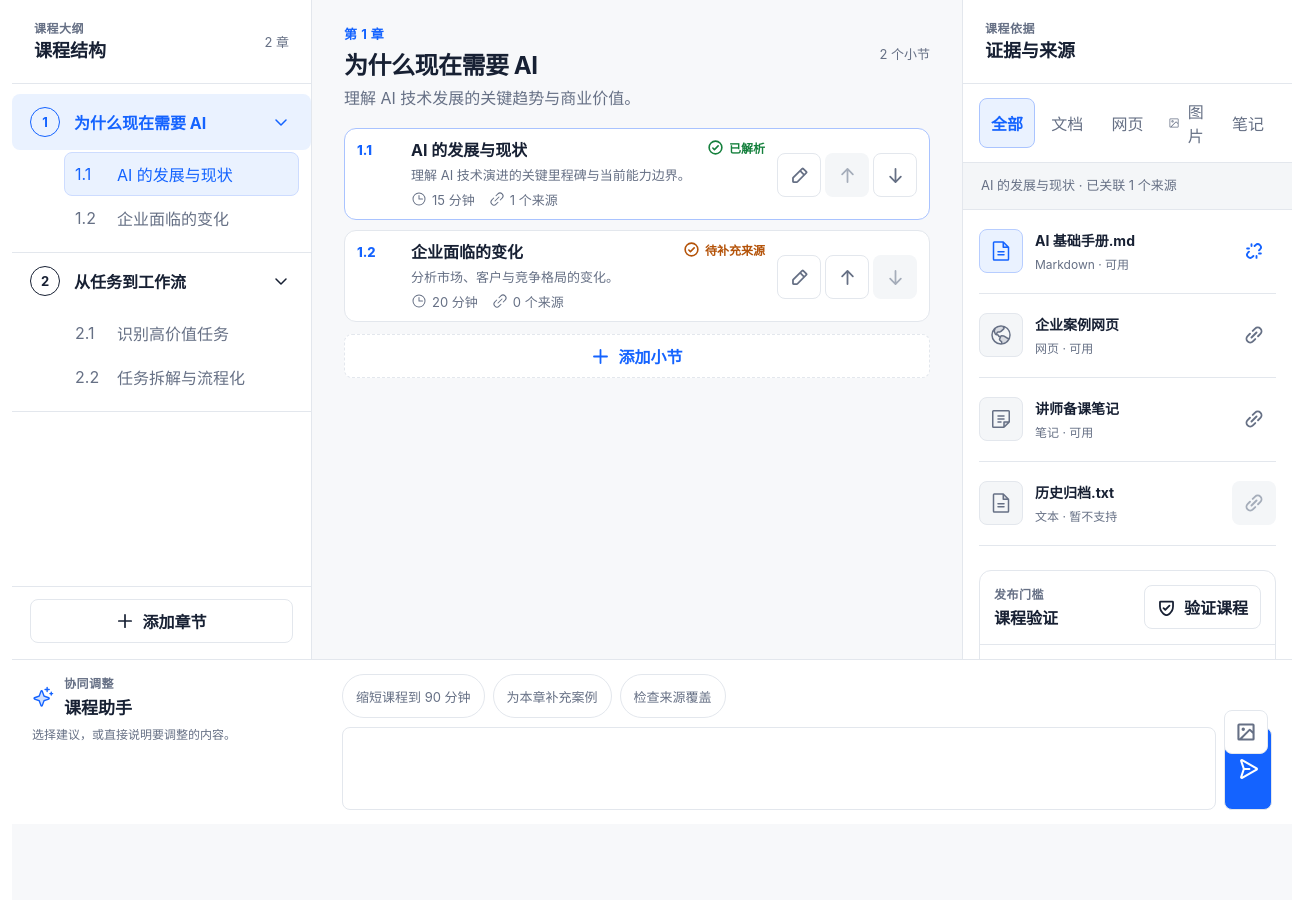
轻量课程编辑器 › selects the first lesson of another chapter and updates source context
Step 1. Click the button with aria-label "第 2 章 从任务到工作流" → x=162, y=281, box x1=12 y1=253 x2=311 y2=309
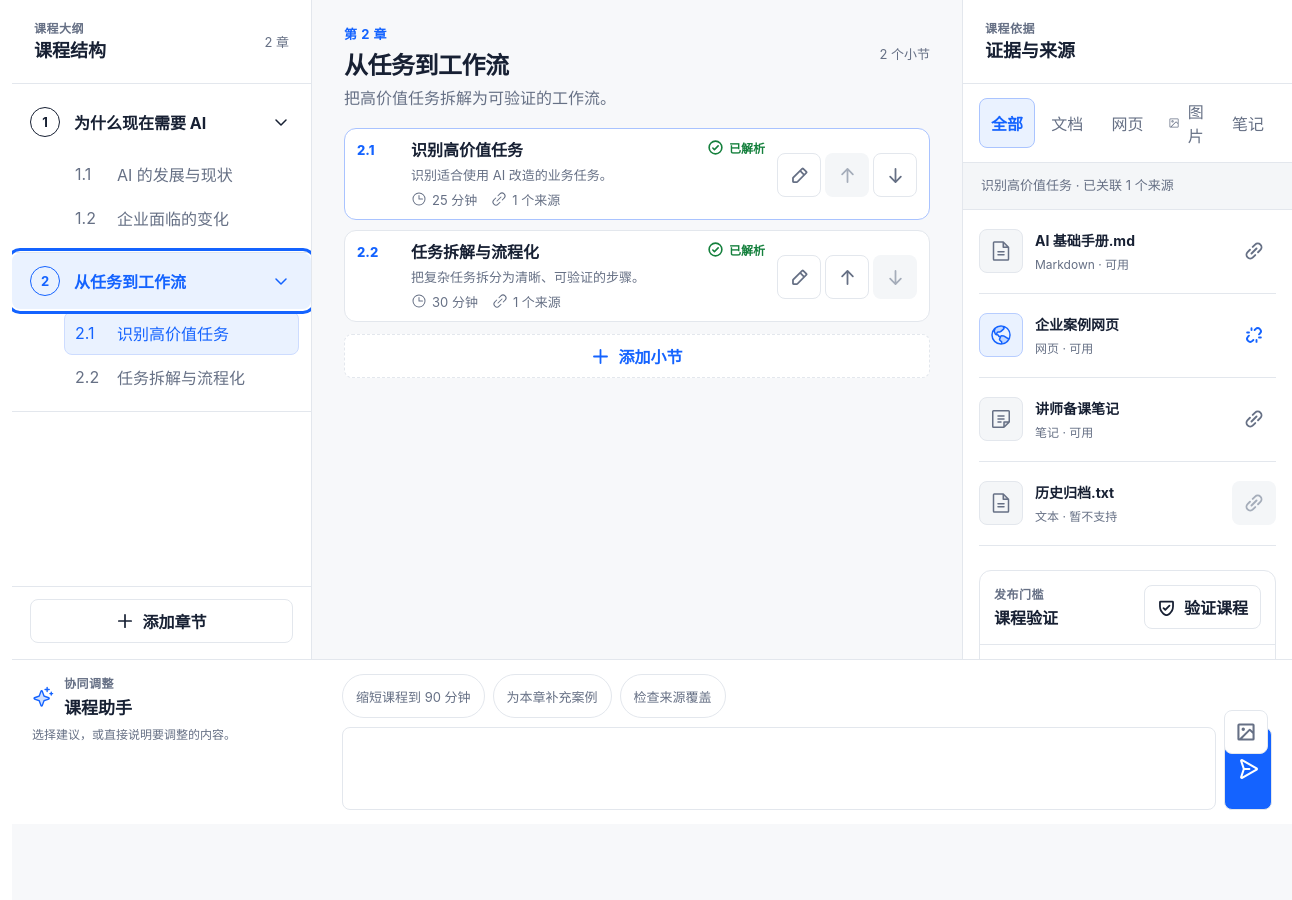
Expected: the button named "取消关联 企业案例网页" is enabled, x1=1232 y1=313 x2=1276 y2=357
Expected: the heading "从任务到工作流" is shown, x1=344 y1=51 x2=509 y2=80
Expected: the text "识别高价值任务 · 已关联 1 个来源" is shown, x1=963 y1=163 x2=1291 y2=210
